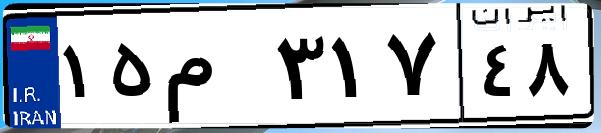1: (330, 28, 385, 110), (57, 26, 110, 100)
3: (270, 28, 330, 110)
4: (475, 38, 525, 113)
5: (110, 28, 158, 98)
7: (385, 28, 445, 110)
8: (525, 38, 570, 115)
م: (158, 20, 270, 120)
